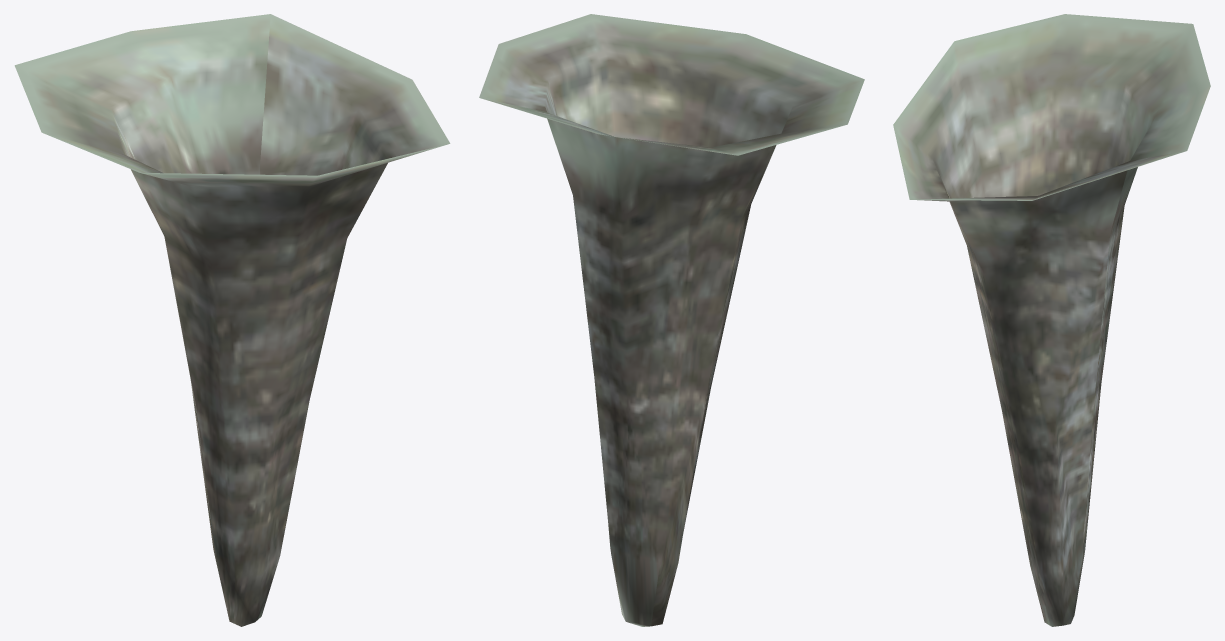
Rendered from TROLLHOLE02_PS-UPPERSTALAG15.fbx.
3 views of the same model, side by side, from view 1: azimuth 30°, elevation 25°; view 2: azimuth 150°, elevation 25°; view 3: azimuth 270°, elevation 25° (orthographic). The views are drawn at different scales.
Parts seen in each view (by area): view 1: TROLLHOLE02_PS-UPPERSTALAG15; view 2: TROLLHOLE02_PS-UPPERSTALAG15; view 3: TROLLHOLE02_PS-UPPERSTALAG15.
Boxes of the visible parts, x1,y1,x2,y2 form: TROLLHOLE02_PS-UPPERSTALAG15: (14, 14, 450, 626); TROLLHOLE02_PS-UPPERSTALAG15: (479, 14, 864, 626); TROLLHOLE02_PS-UPPERSTALAG15: (893, 14, 1210, 626).
Bounding box in the file's own units: 16194 × 23828 × 13047.
Materials: 1 (1 with a texture image).
